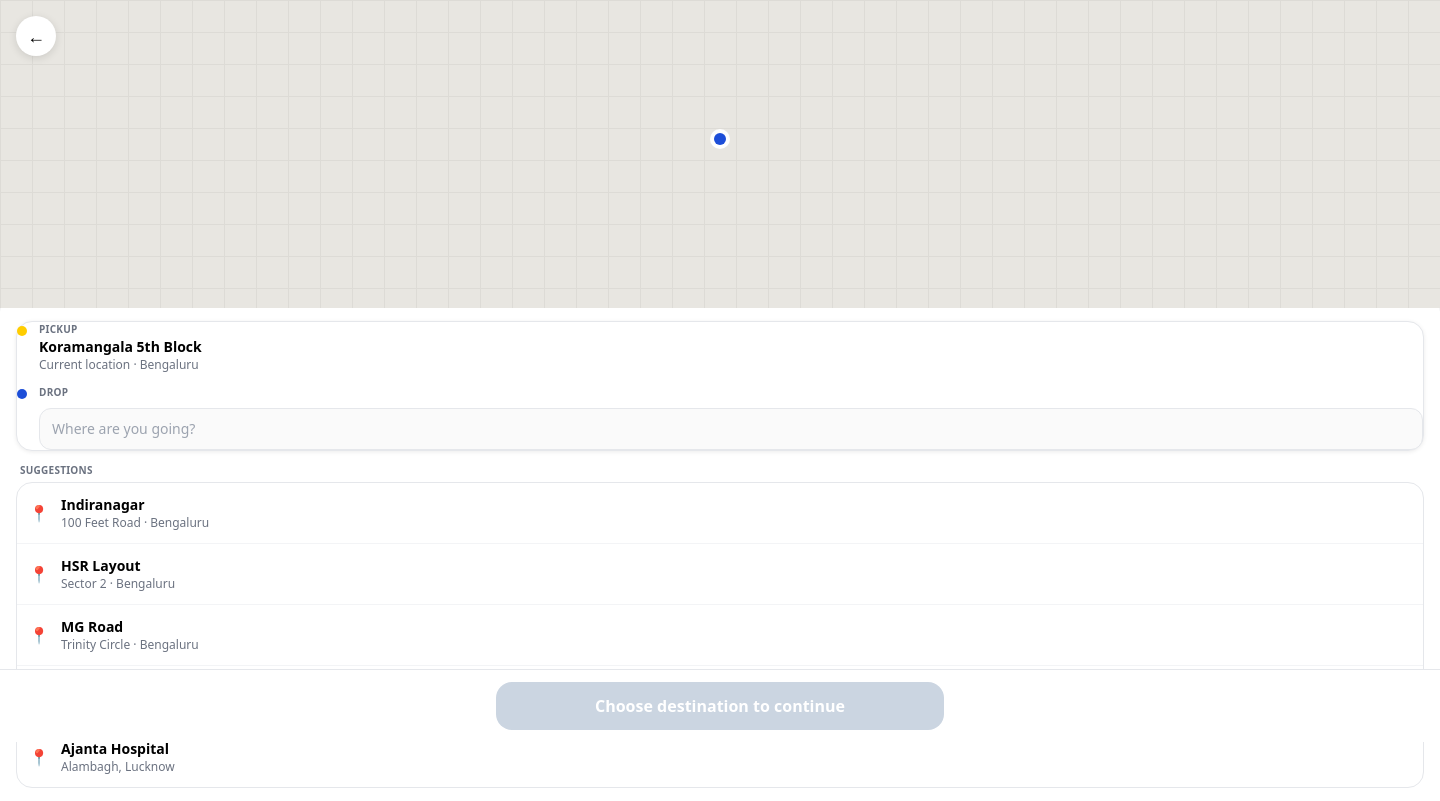
Test: booking destination flow › shows ride options and enables booking after destination selection
The width and height of the screenshot is (1440, 801).
Click the button with test id "destination-suggestion-indiranagar": (103, 504) [17,483,1423,543]
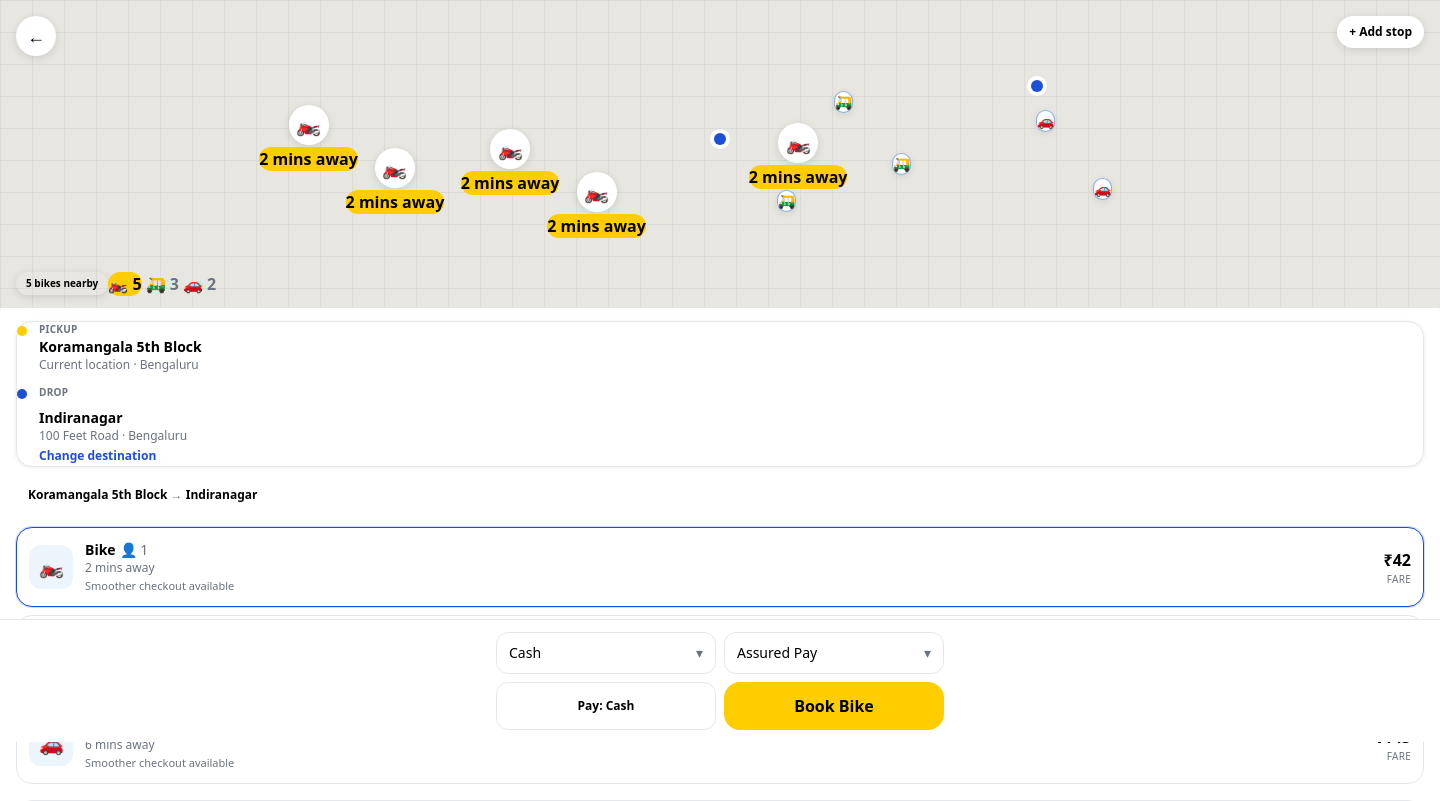
Expected: the element with test id "booking-trip-summary" shows "Indiranagar", [186,486,257,503]
Expected: the element with test id "ride-category-list" is shown, [16,527,1424,784]
Expected: the element with test id "vehicle-map-markers" is shown, [16,80,1111,296]
